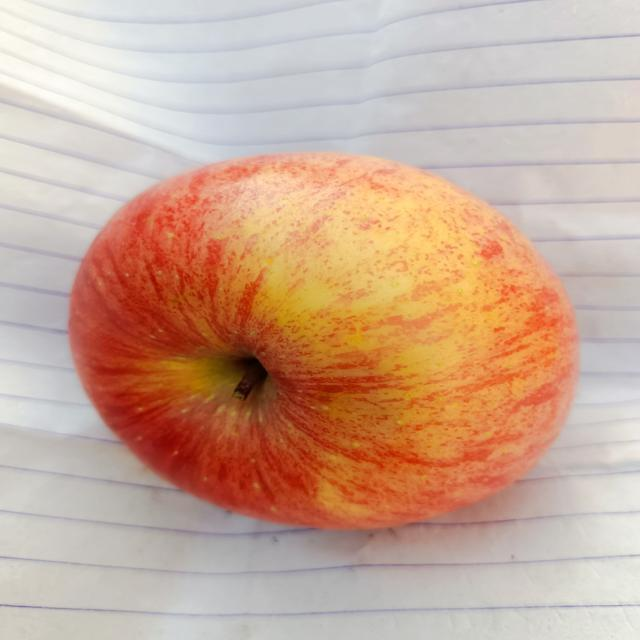Fresh Apple: (65, 154, 580, 528)
